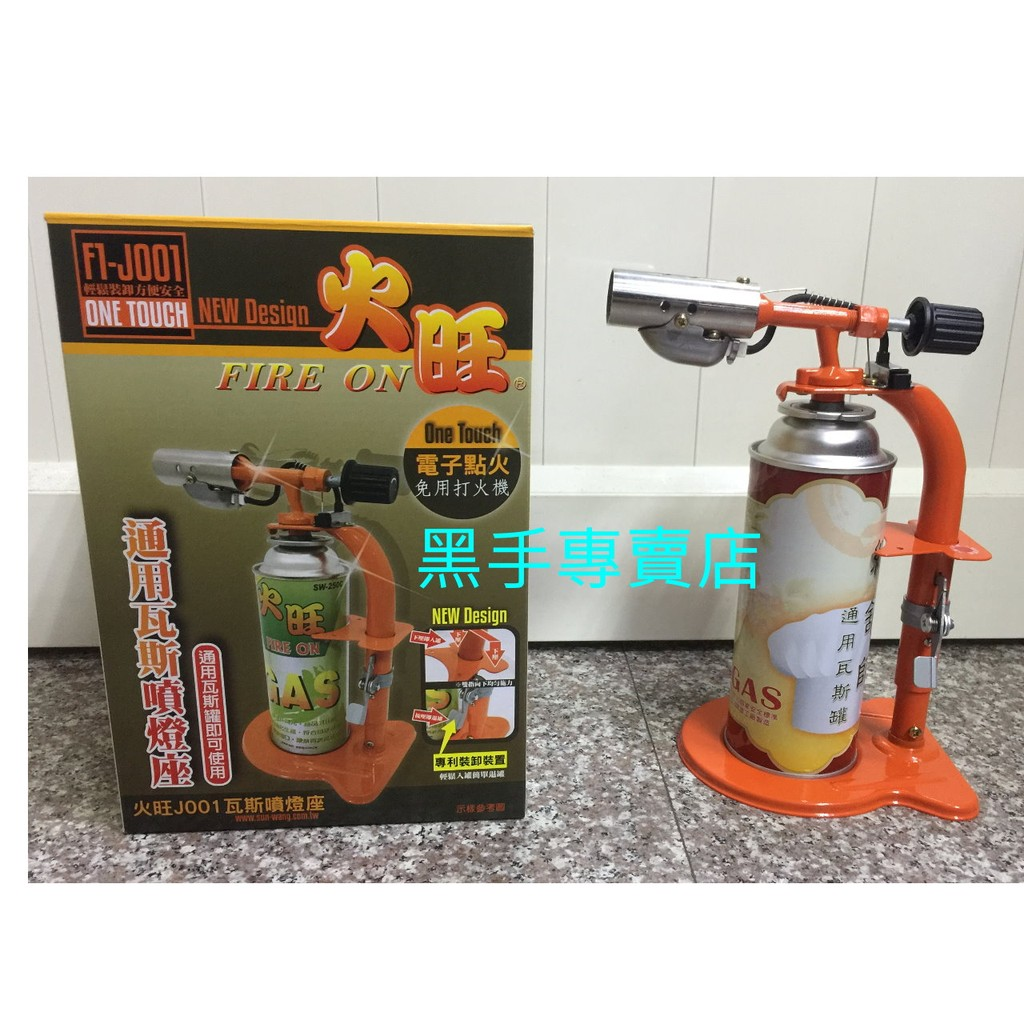gastorch: (604, 259, 1014, 817), (146, 437, 438, 820)
